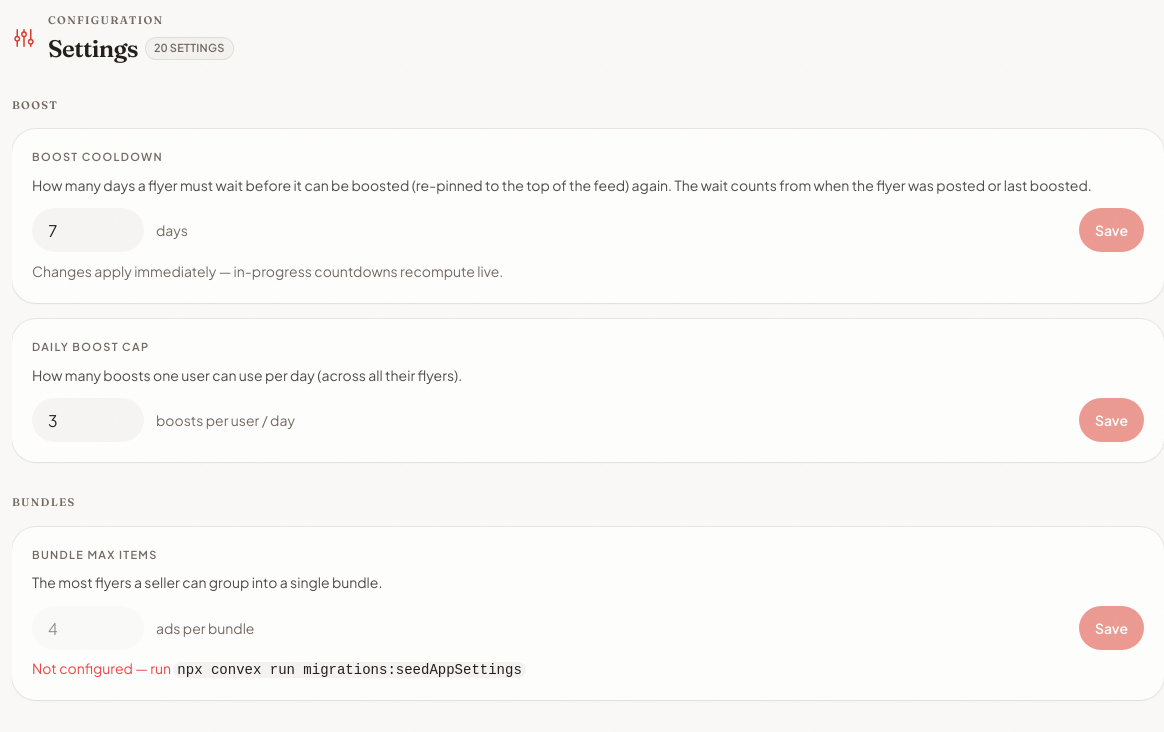
SettingsTab › shows an out-of-range helper and disables Save for an over-max value
Replace the text in the number field labelled "Boost cooldown" with "99" at {"x": 88, "y": 230}, box left=32, top=208, right=144, bottom=252
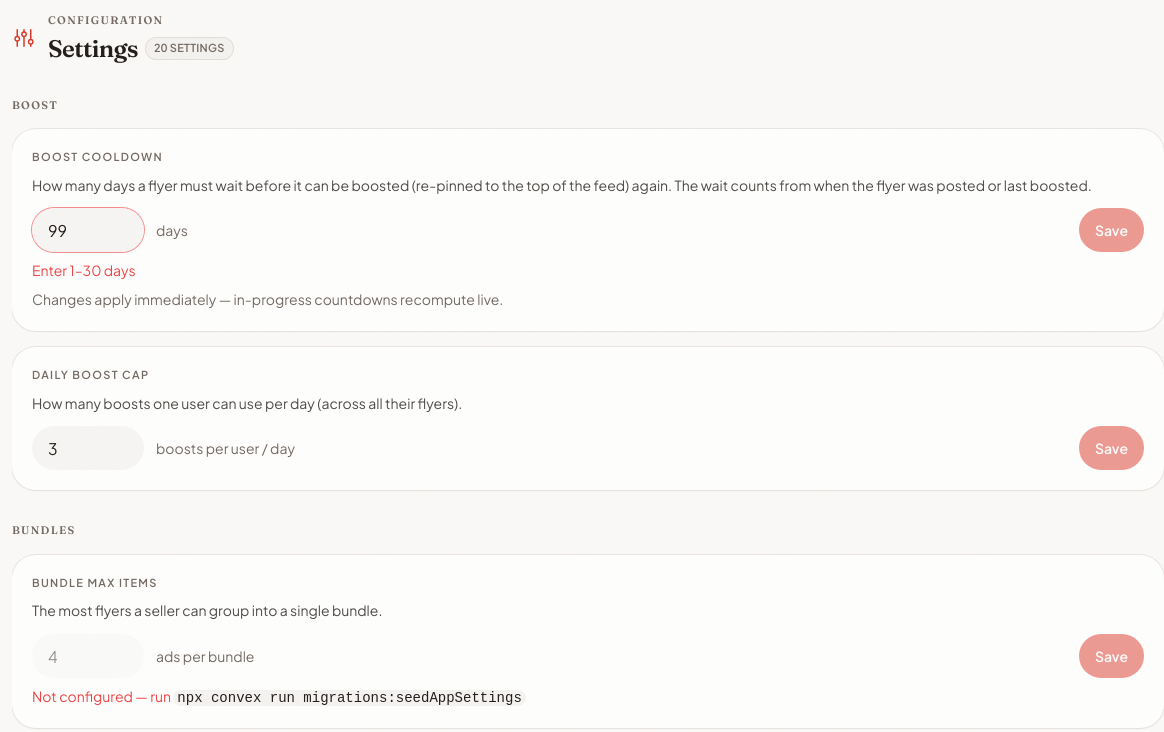
Expected: the 1st button "Save" is disabled, left=1079, top=208, right=1144, bottom=252
Result: the text "Enter 1–30 days" is shown at left=32, top=261, right=136, bottom=279
